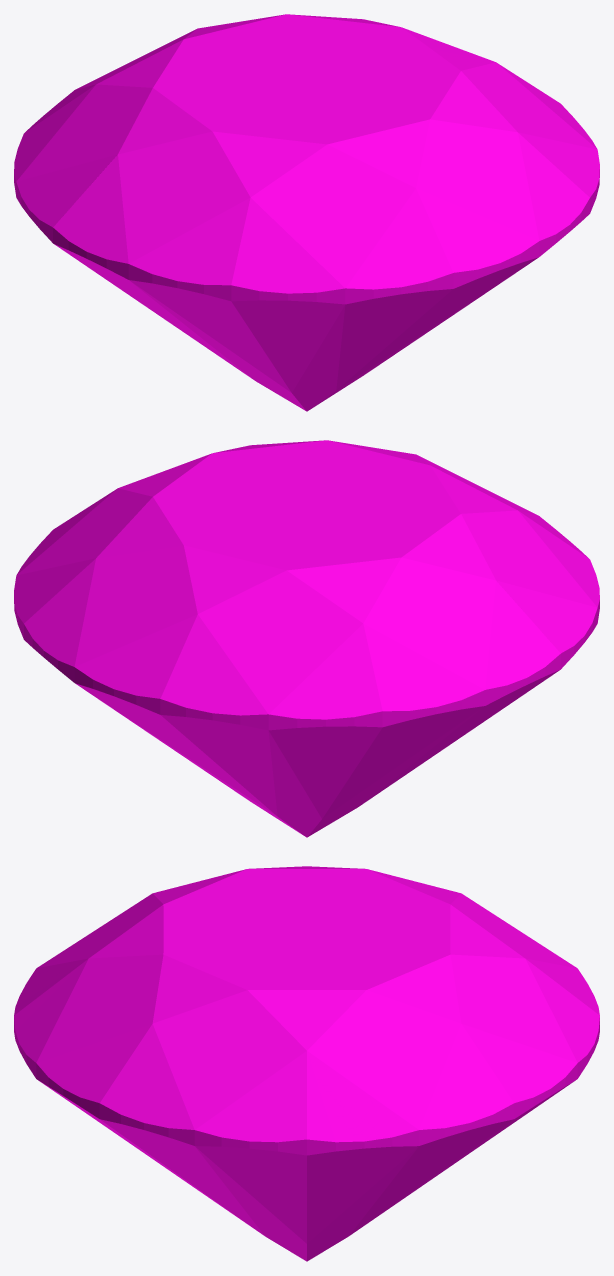
File: RoundPinkSapph.glb
3 renders of one model, top to bottom at view 1: azimuth 30°, elevation 25°; view 2: azimuth 150°, elevation 25°; view 3: azimuth 270°, elevation 25°, orthographic.
Visible parts, largest first — view 1: new twist dia for 3d model; view 2: new twist dia for 3d model; view 3: new twist dia for 3d model.
Part boxes in pixels (left/top/right/bottom): new twist dia for 3d model: left=14, top=14, right=599, bottom=411; new twist dia for 3d model: left=14, top=440, right=599, bottom=837; new twist dia for 3d model: left=14, top=866, right=599, bottom=1261.
Size of the model in its own units: 7.45 by 4.66 by 7.45.
